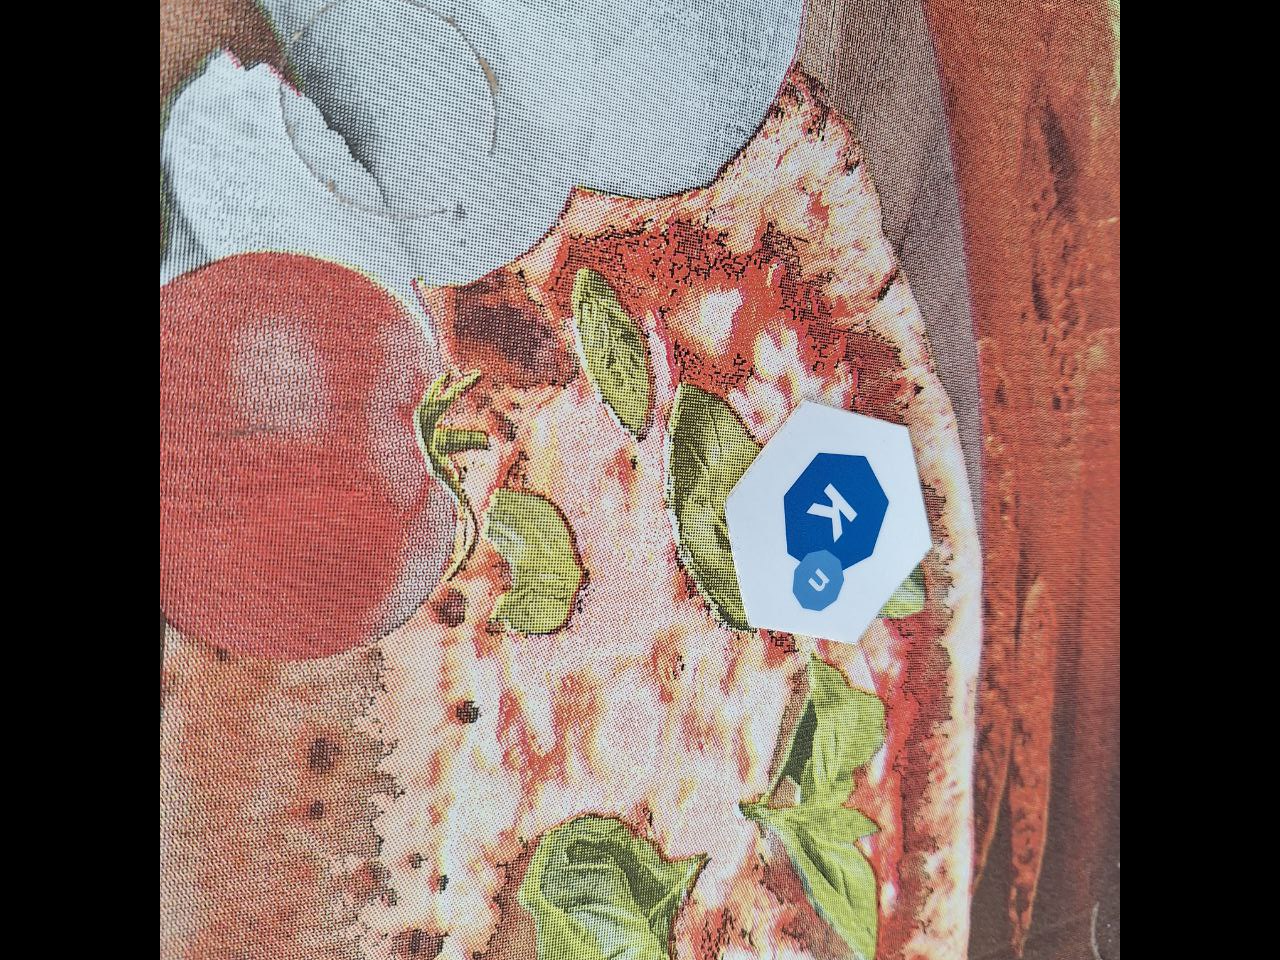knative: (782, 453, 892, 612)
